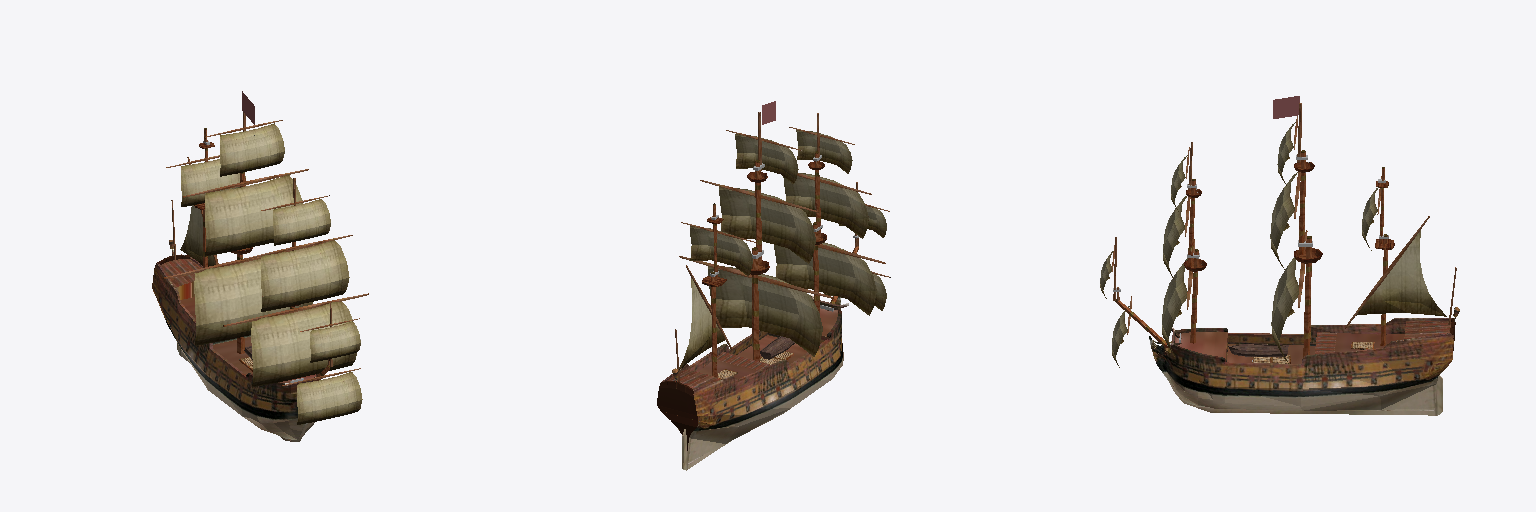
The picture shows the model from 3 angles: view 1: azimuth 30°, elevation 25°; view 2: azimuth 150°, elevation 25°; view 3: azimuth 270°, elevation 25°; orthographic projection.
Visible parts, largest first — view 1: Mesh_Mesh_Mesh_Mesh.022_Mesh.014_ShapeIndexedFaceSet.032_ShapeIn; view 2: Mesh_Mesh_Mesh_Mesh.022_Mesh.014_ShapeIndexedFaceSet.032_ShapeIn; view 3: Mesh_Mesh_Mesh_Mesh.022_Mesh.014_ShapeIndexedFaceSet.032_ShapeIn.
Boxes of the visible parts, x1=… form: Mesh_Mesh_Mesh_Mesh.022_Mesh.014_ShapeIndexedFaceSet.032_ShapeIn: x1=152, y1=91, x2=368, y2=441; Mesh_Mesh_Mesh_Mesh.022_Mesh.014_ShapeIndexedFaceSet.032_ShapeIn: x1=657, y1=101, x2=890, y2=470; Mesh_Mesh_Mesh_Mesh.022_Mesh.014_ShapeIndexedFaceSet.032_ShapeIn: x1=1100, y1=96, x2=1459, y2=415.
Bounding box in the file's own units: 1.74 × 3.34 × 3.43.
58 materials, 1 textured.